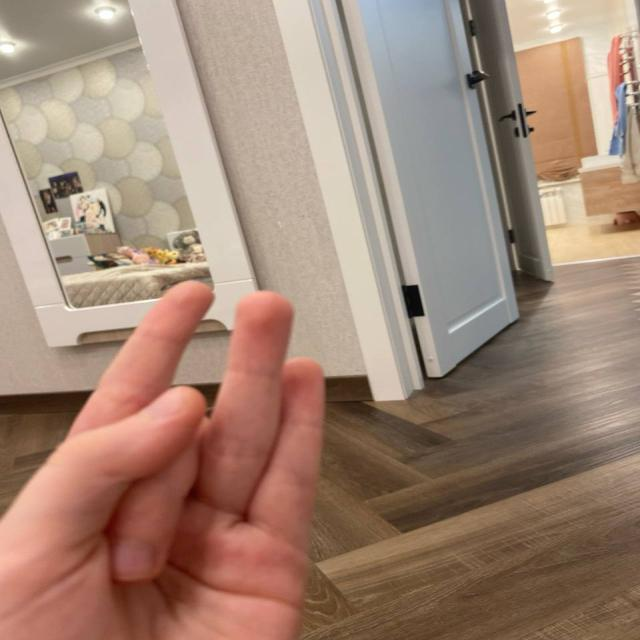r: (17, 241, 379, 640)
